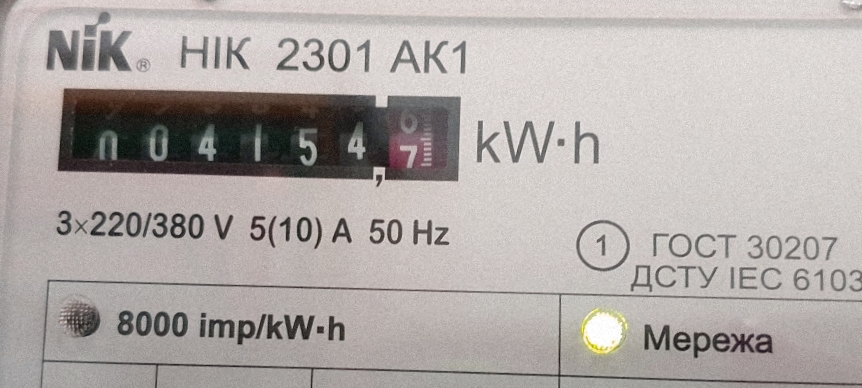0: (145, 120, 169, 162), (95, 125, 119, 160)
1: (250, 120, 264, 162)
4: (194, 120, 219, 162), (345, 116, 366, 161)
5: (295, 122, 320, 166)
6: (397, 104, 420, 134)
7: (396, 140, 418, 169)
screen: (41, 68, 478, 198)
